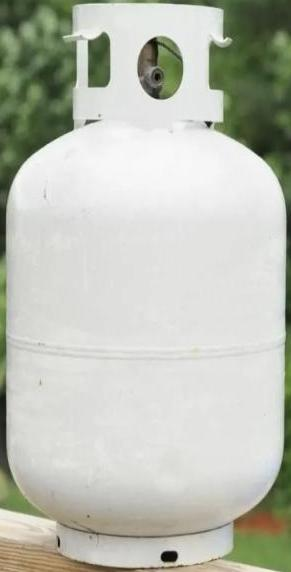cylinder: (1, 1, 291, 572)
